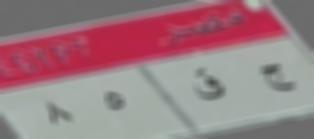5: (102, 86, 130, 118)
8: (41, 97, 74, 127)
jeem: (257, 63, 298, 95)
qaaf: (192, 68, 227, 105)
